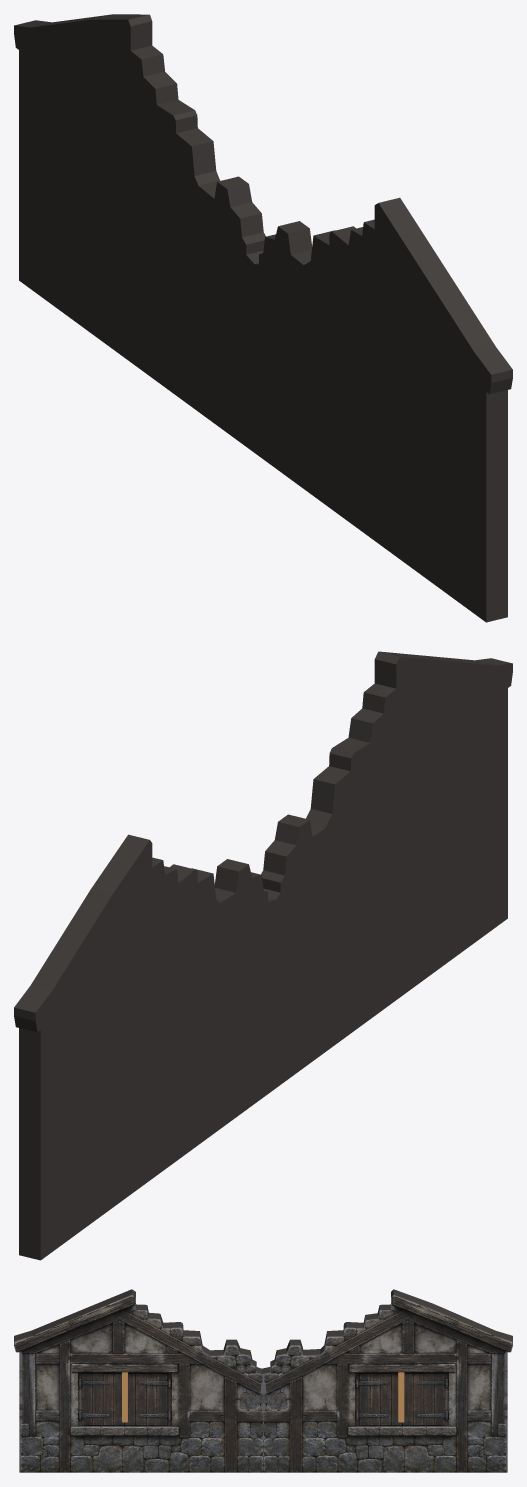
The model's file is SM_Decor_FacadeB.fbx.
3 renders of one model, top to bottom at view 1: azimuth 30°, elevation 25°; view 2: azimuth 150°, elevation 25°; view 3: azimuth 270°, elevation 25°, orthographic. The views are drawn at different scales.
Visible parts, largest first — view 1: SM_Decor_FacadeB; view 2: SM_Decor_FacadeB; view 3: SM_Decor_FacadeB.
Boxes of the visible parts, x1=… form: SM_Decor_FacadeB: x1=14, y1=14, x2=512, y2=622; SM_Decor_FacadeB: x1=14, y1=651, x2=512, y2=1260; SM_Decor_FacadeB: x1=14, y1=1289, x2=512, y2=1472.
Bounding box in the file's own units: 8 × 305 × 120.
2 materials, 2 textured.
